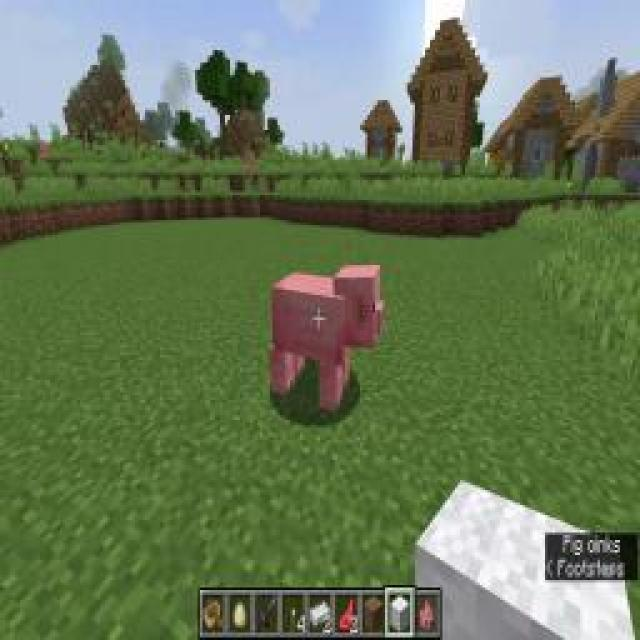Pig: (269, 262, 386, 416)
